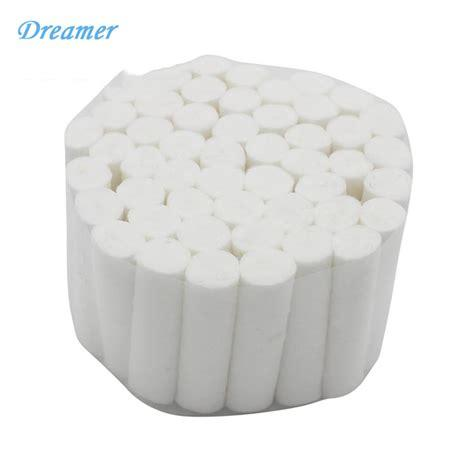cotton: (68, 57, 413, 407)
